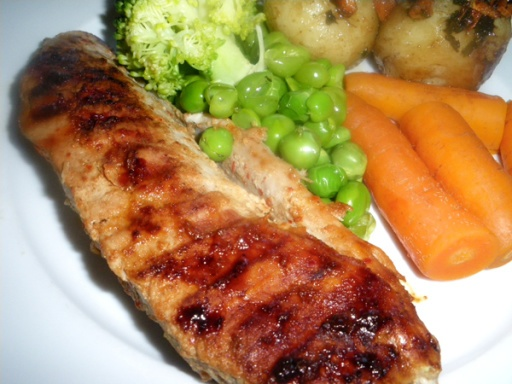background: (12, 0, 409, 230)
